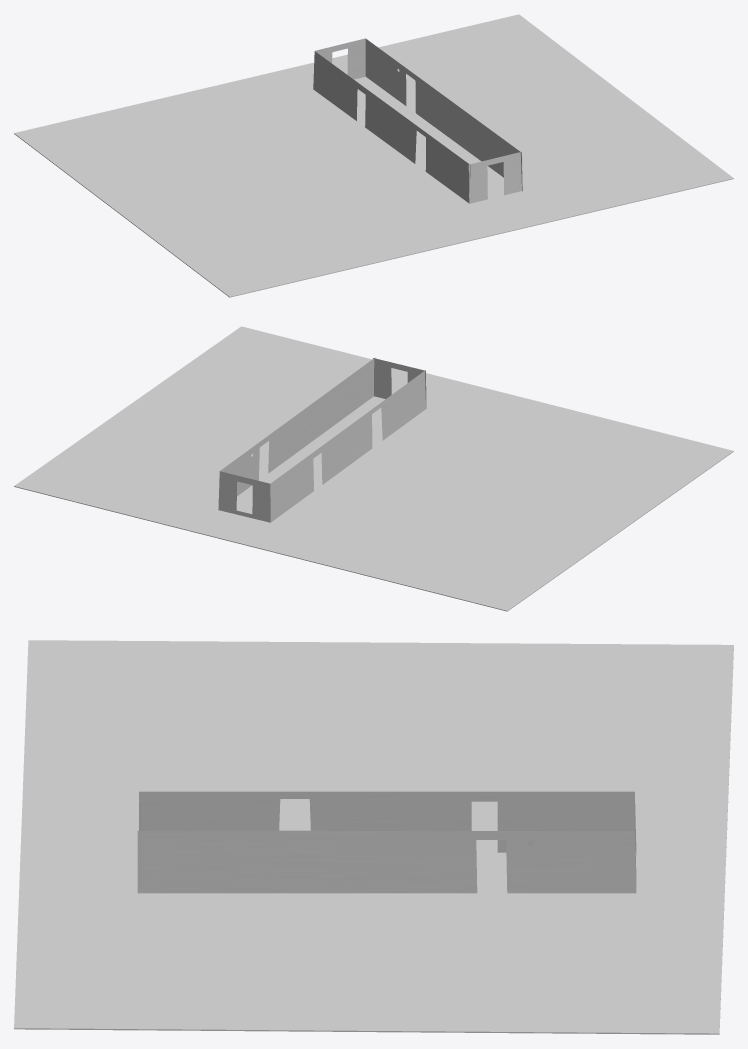
File: hall2.fbx
The picture shows the model from 3 angles, top to bottom: view 1: azimuth 30°, elevation 25°; view 2: azimuth 150°, elevation 25°; view 3: azimuth 270°, elevation 25°; orthographic projection. The views are drawn at different scales.
Visible parts, largest first — view 1: ENV_Plafondhall_lobbyfloor, ENV_Wall01.002_lobby; view 2: ENV_Plafondhall_lobbyfloor, ENV_Wall01.002_lobby; view 3: ENV_Plafondhall_lobbyfloor, ENV_Wall01.002_lobby.
Part boxes in pixels (x1,y1,x2,y2): ENV_Plafondhall_lobbyfloor: (14, 14, 733, 297); ENV_Wall01.002_lobby: (313, 38, 522, 203); ENV_Plafondhall_lobbyfloor: (14, 326, 733, 611); ENV_Wall01.002_lobby: (218, 357, 426, 522); ENV_Plafondhall_lobbyfloor: (14, 640, 733, 1034); ENV_Wall01.002_lobby: (137, 791, 636, 893).
Size of the model in its own units: 29827 by 2264 by 23074.
